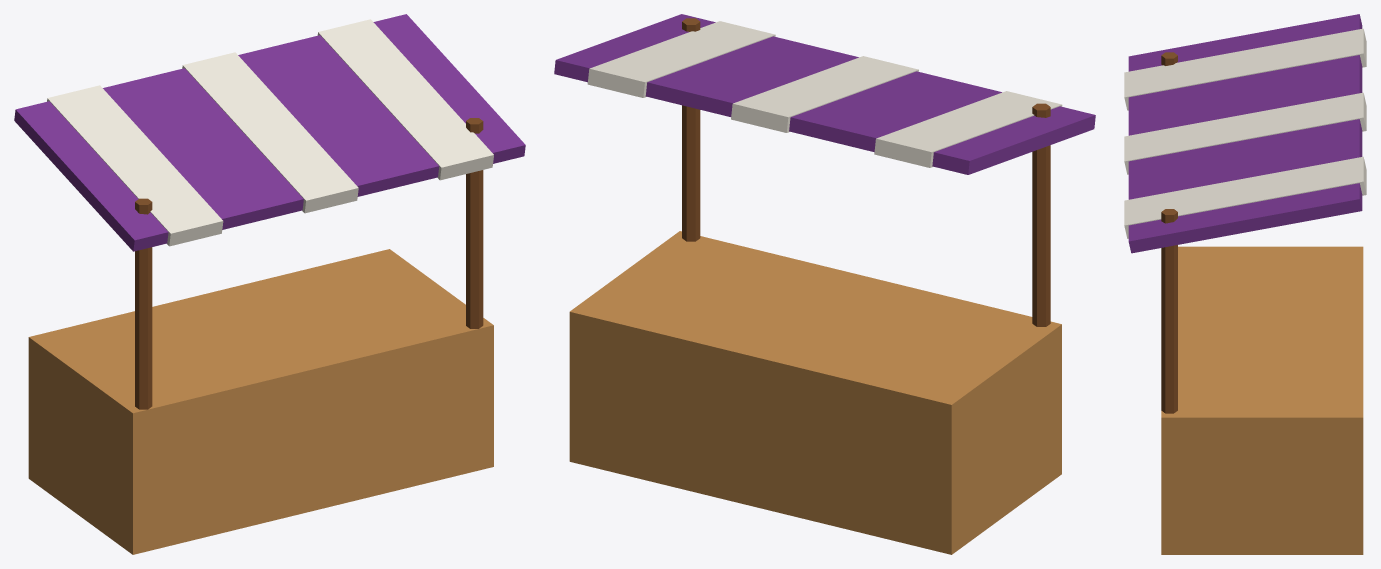
The model's file is market_stall.glb.
3 renders of one model, left to right at view 1: azimuth 30°, elevation 25°; view 2: azimuth 150°, elevation 25°; view 3: azimuth 270°, elevation 25°, orthographic. The views are drawn at different scales.
Parts seen in each view (by area): view 1: market_stall; view 2: market_stall; view 3: market_stall.
Part boxes in pixels (x1=…): market_stall: x1=14, y1=14, x2=525, y2=554; market_stall: x1=554, y1=14, x2=1095, y2=554; market_stall: x1=1124, y1=14, x2=1366, y2=554.
Size of the model in its own units: 2.6 by 2.39 by 1.44.
